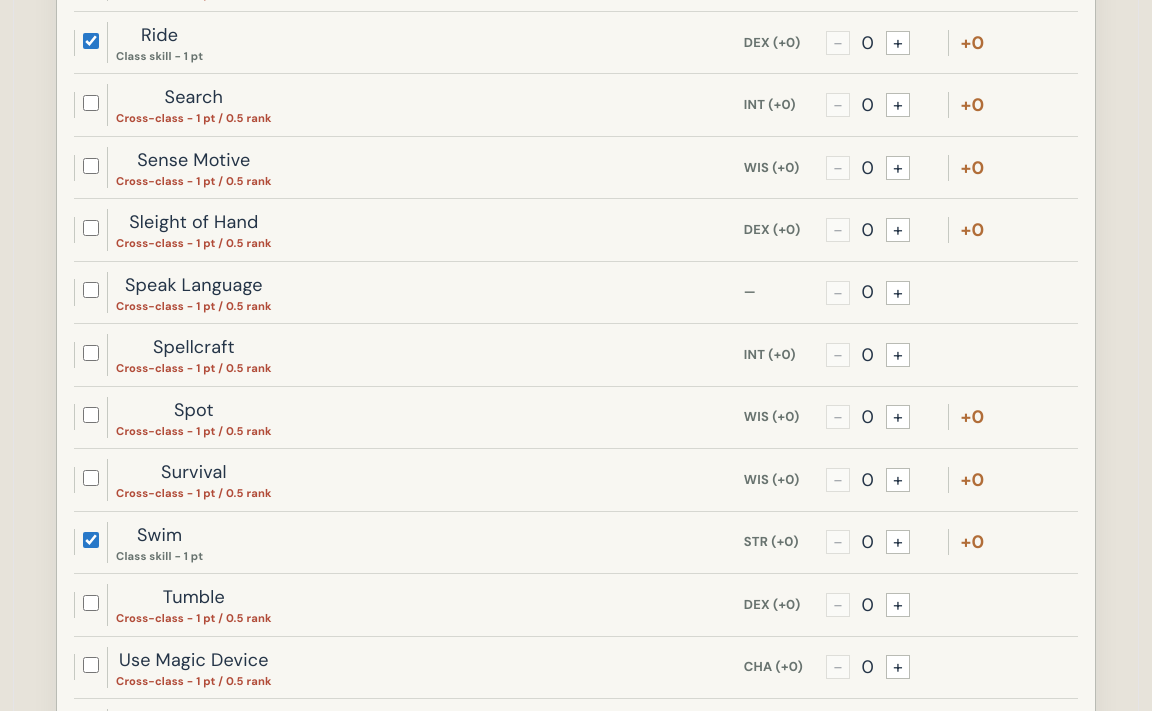
spends one skill point for a half-rank in a cross-class skill
(page scrolled)
Click the button "+" in the row of "Spellcraft": (898, 355) [886, 343, 910, 367]
(page scrolled)
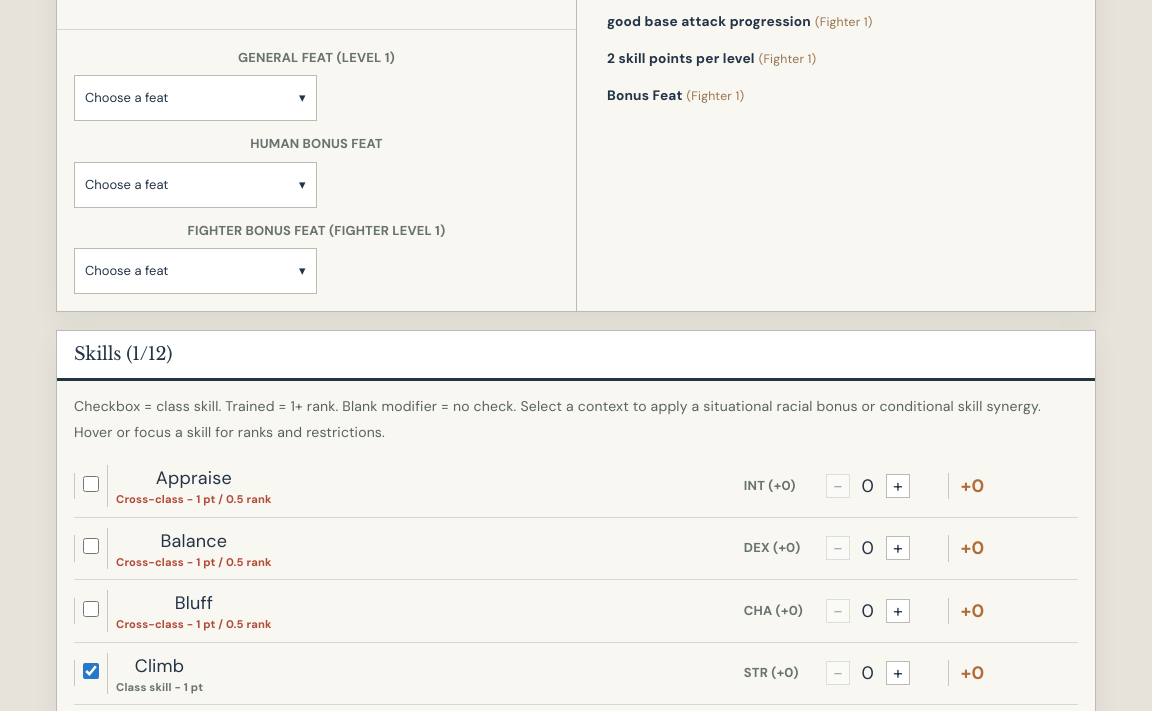
Expected: the heading "Skills (1/12)" is shown, [74, 344, 172, 365]
